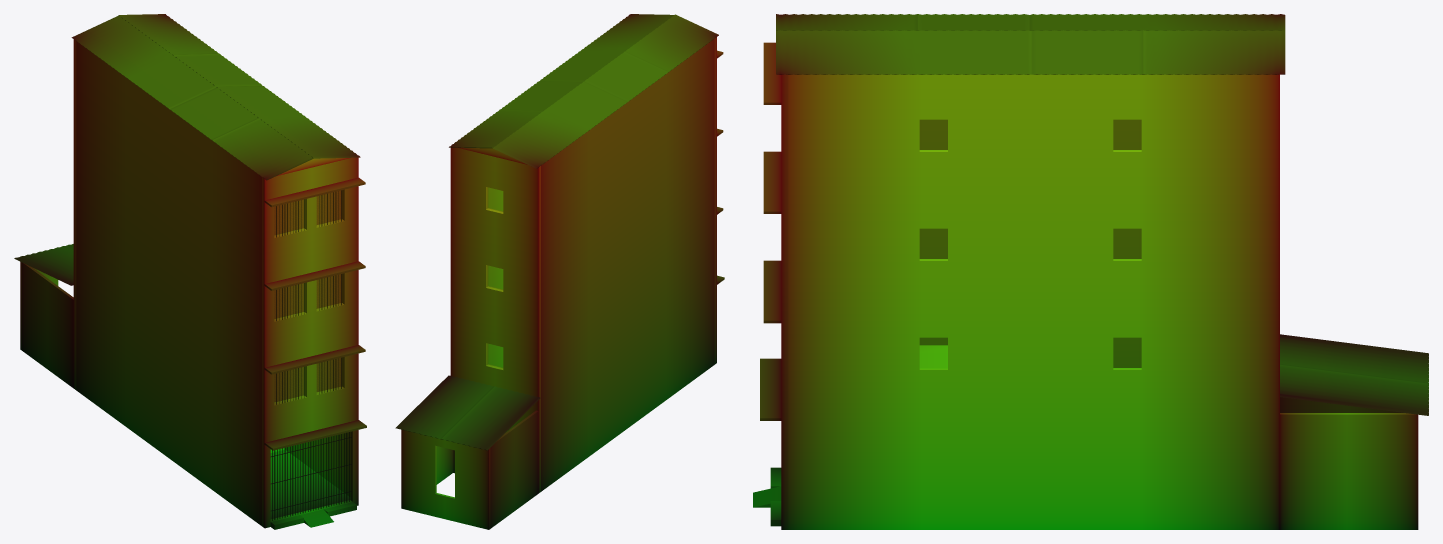
Rendered from nha_ong_cu_4x18.glb.
3 views of the same model, side by side, from view 1: azimuth 30°, elevation 25°; view 2: azimuth 150°, elevation 25°; view 3: azimuth 270°, elevation 25° (orthographic). The views are drawn at different scales.
Visible parts, largest first — view 1: nha_ong_cu_4x18; view 2: nha_ong_cu_4x18; view 3: nha_ong_cu_4x18.
Boxes of the visible parts, box(x1,y1,x2,y2) form: nha_ong_cu_4x18: box(14, 14, 366, 529); nha_ong_cu_4x18: box(395, 14, 724, 529); nha_ong_cu_4x18: box(753, 14, 1428, 529).
Size of what is drawn, in the model's own units: 4.2 by 14.65 by 19.1.
